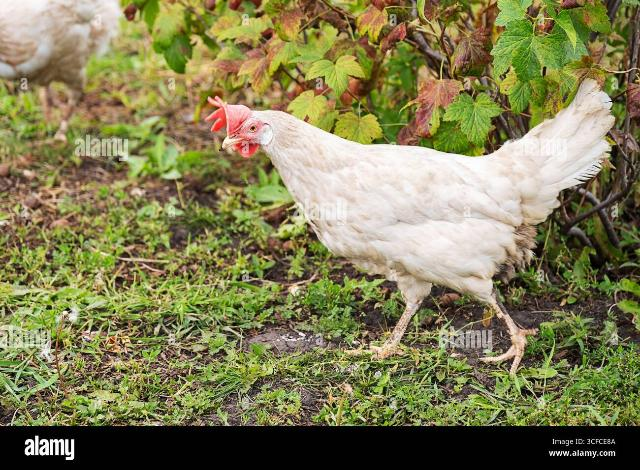Chicken: (205, 79, 616, 367), (0, 0, 123, 124)
